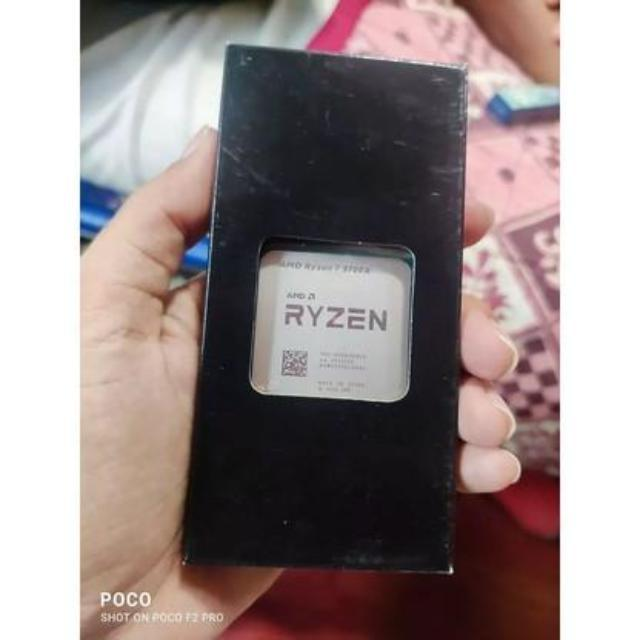CPU: (258, 243, 416, 408)
